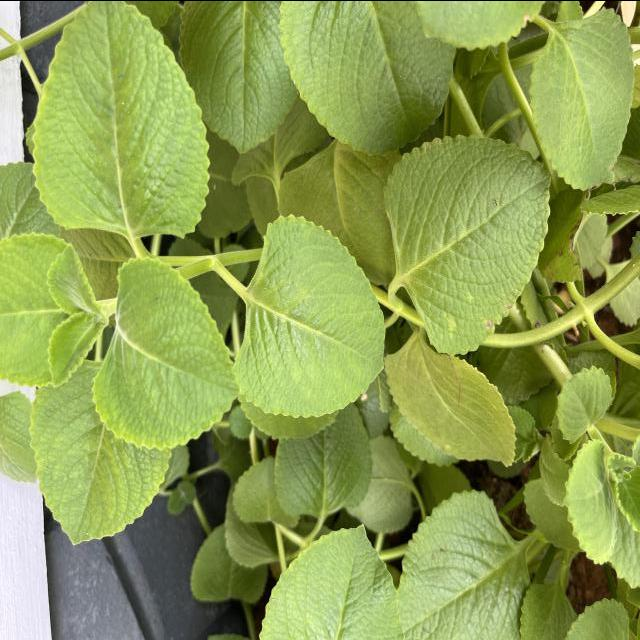Plectranthus barbatus: (31, 0, 212, 239), (382, 132, 552, 356), (231, 212, 387, 418), (90, 254, 240, 449), (276, 0, 457, 157), (29, 387, 172, 546), (392, 487, 527, 640), (528, 5, 636, 192), (383, 349, 518, 469)
